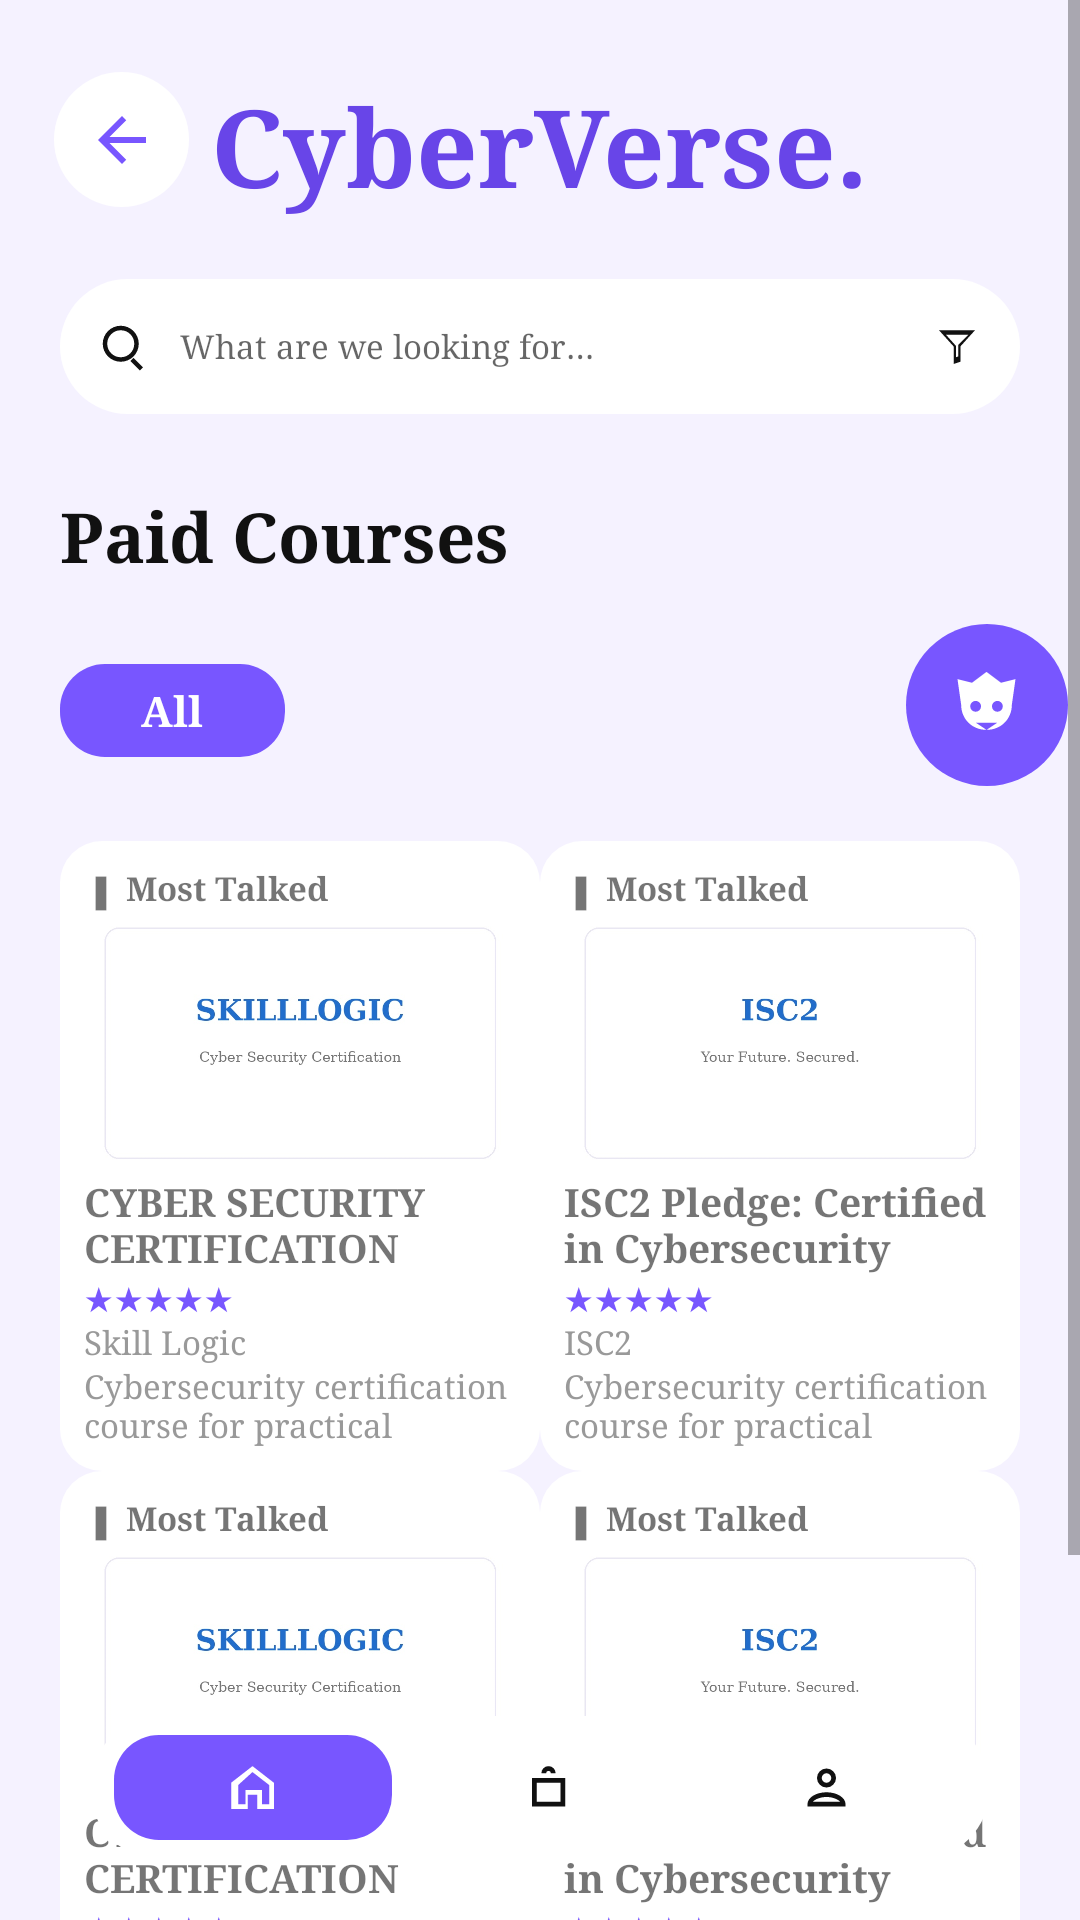

Named icons in this screenshot (1080 × 1920) and their centers, [x,y]:
Back: [121,139]
cat: [986,701]
Filter: [957,347]
Search: [122,348]
Shop: [549,1786]
